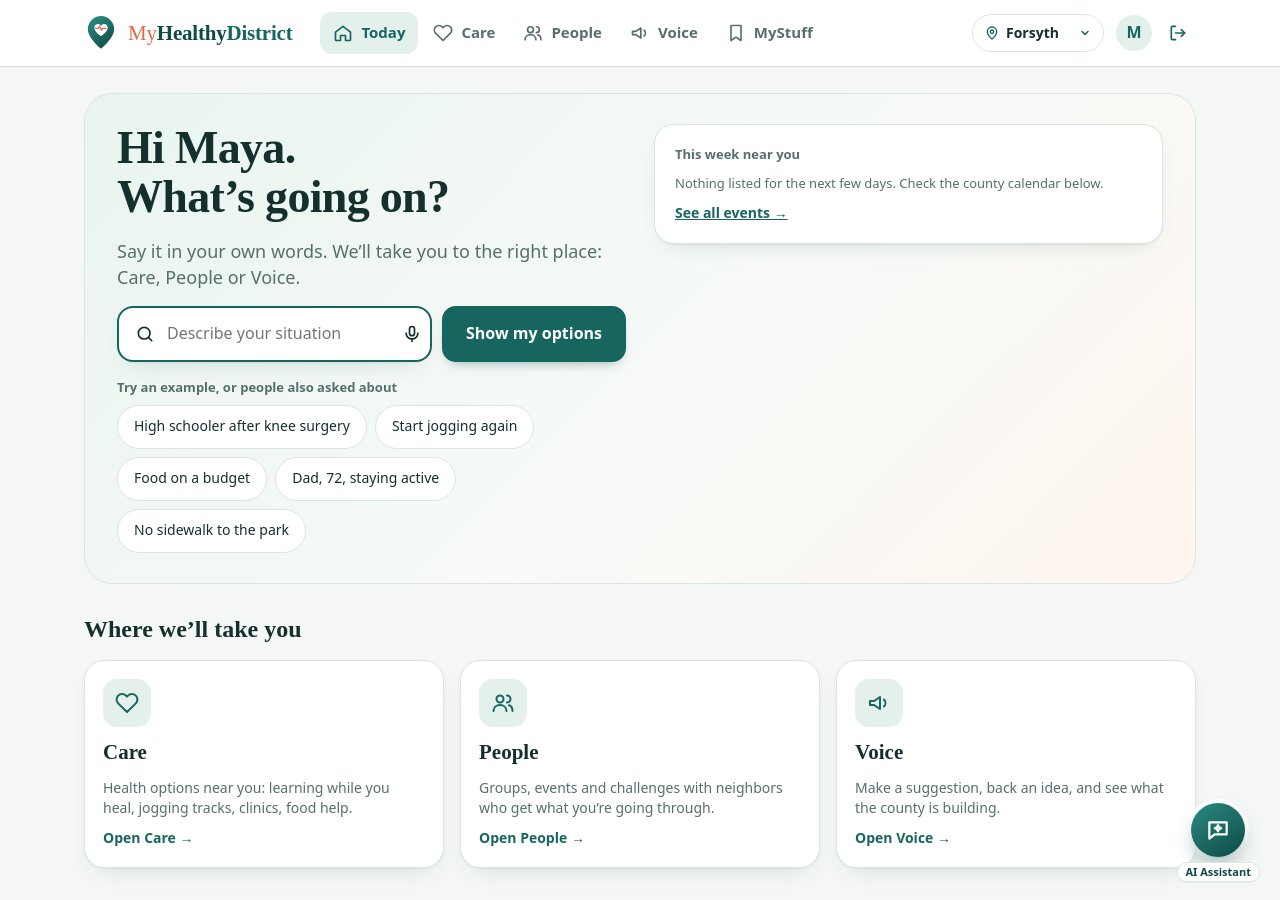
Test: login screens › signs out and returns to the sign in page
Expected: the heading "Hi Maya.What’s going on?" is shown, [117,122,449,222]
What coordinates should you click on to do the following:
click the button named "Sign out"
I would click on:
 (1178, 33)
Its box is [1160,11,1196,55].
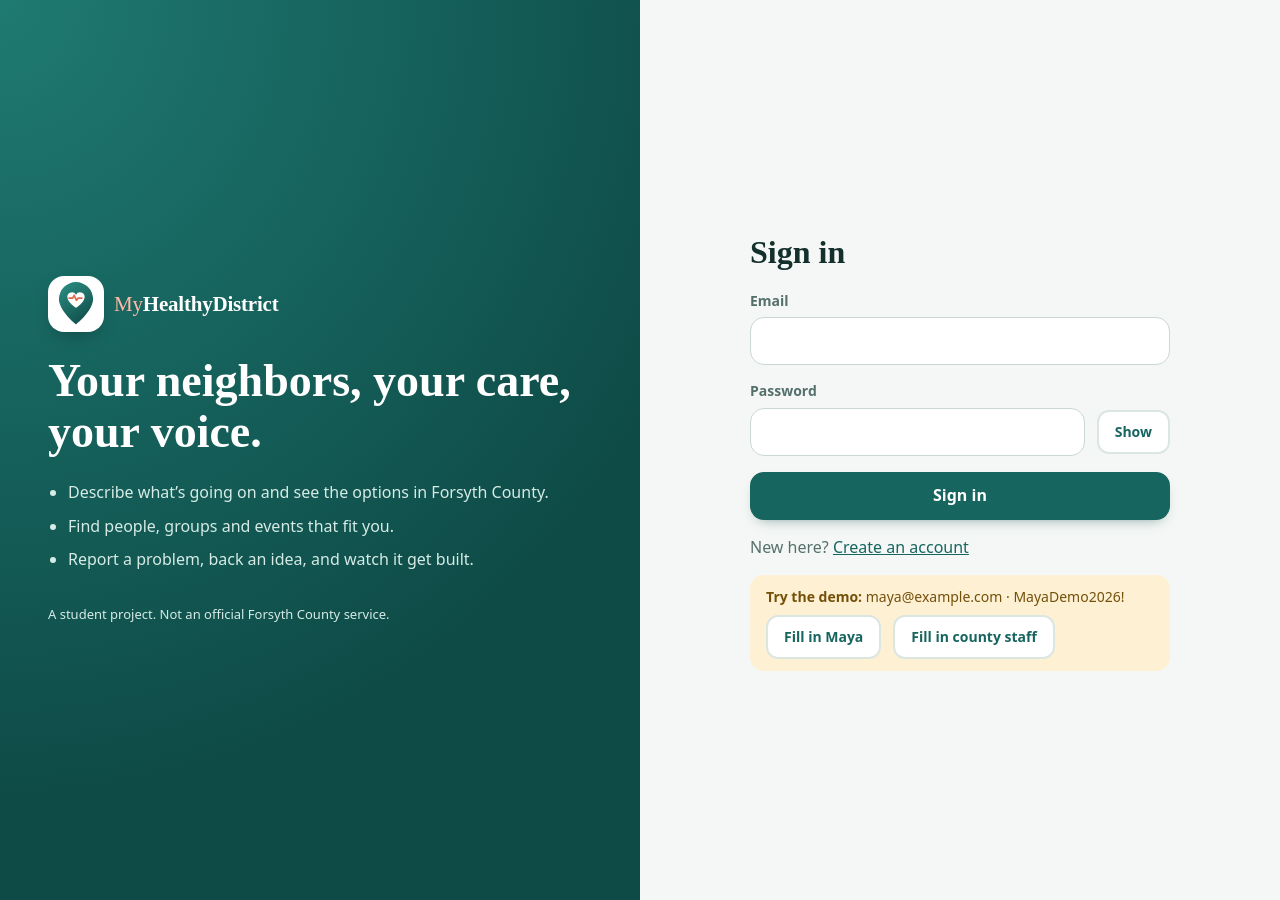
Result: the heading "Sign in" is shown at [750,234,845,270]
